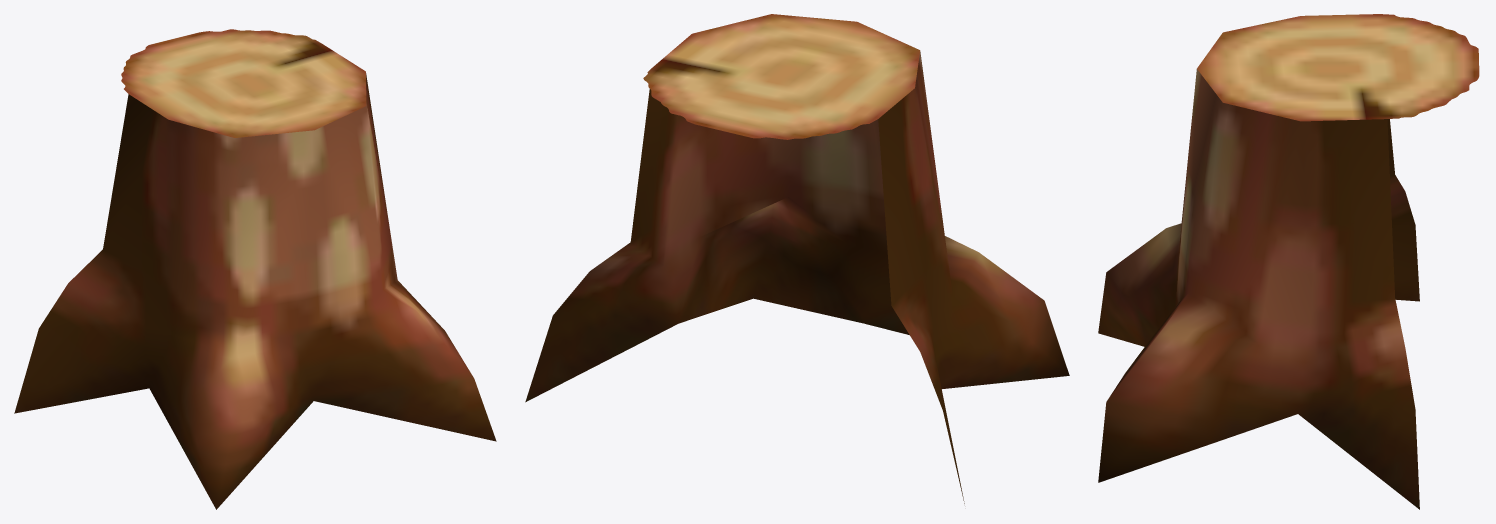
The model's file is fg_treeB_3_b.dae.
3 views of the same model, side by side, from view 1: azimuth 30°, elevation 25°; view 2: azimuth 150°, elevation 25°; view 3: azimuth 270°, elevation 25° (orthographic). The views are drawn at different scales.
Parts seen in each view (by area): view 1: vsn_mesh_0_; view 2: vsn_mesh_0_; view 3: vsn_mesh_0_.
Part boxes in pixels (x1,y1,x2,y2): vsn_mesh_0_: (14,29,496,509); vsn_mesh_0_: (525,14,1069,503); vsn_mesh_0_: (1098,14,1479,509).
Size of the model in its own units: 24.64 by 18.81 by 19.17.
